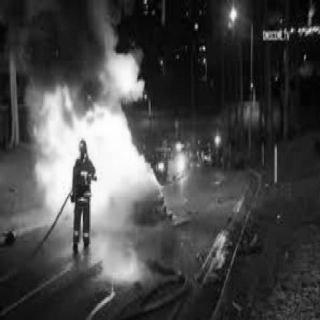Fire: (30, 88, 148, 188)
Smoke: (29, 7, 154, 213)
